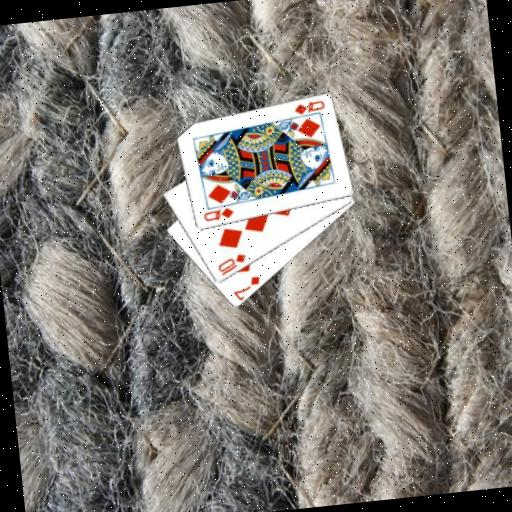10D: (214, 251, 249, 278)
7D: (229, 272, 264, 302)
QD: (199, 204, 236, 224), (290, 97, 327, 117)
